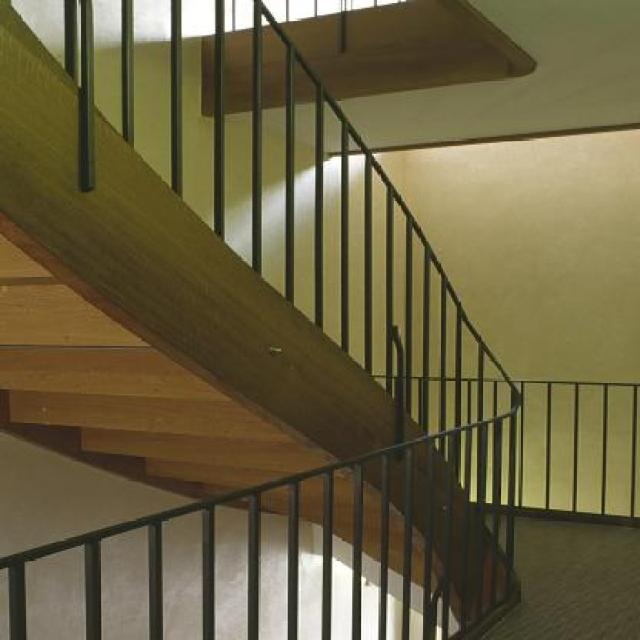stair: (0, 0, 578, 638)
